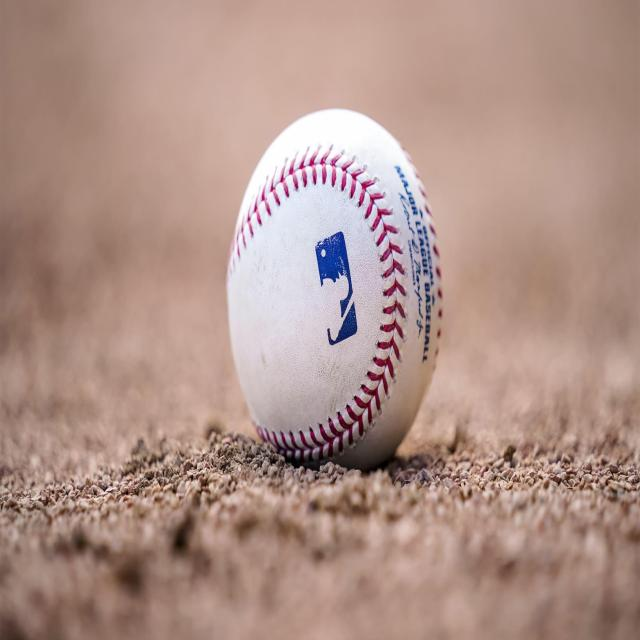baseball: (225, 106, 446, 475)
